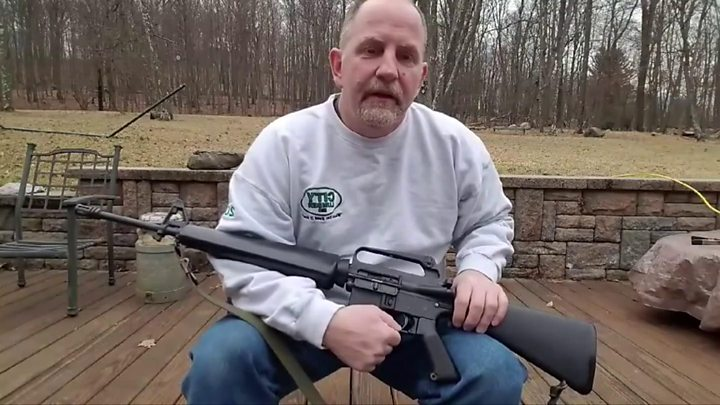Gun: (180, 225, 531, 347)
